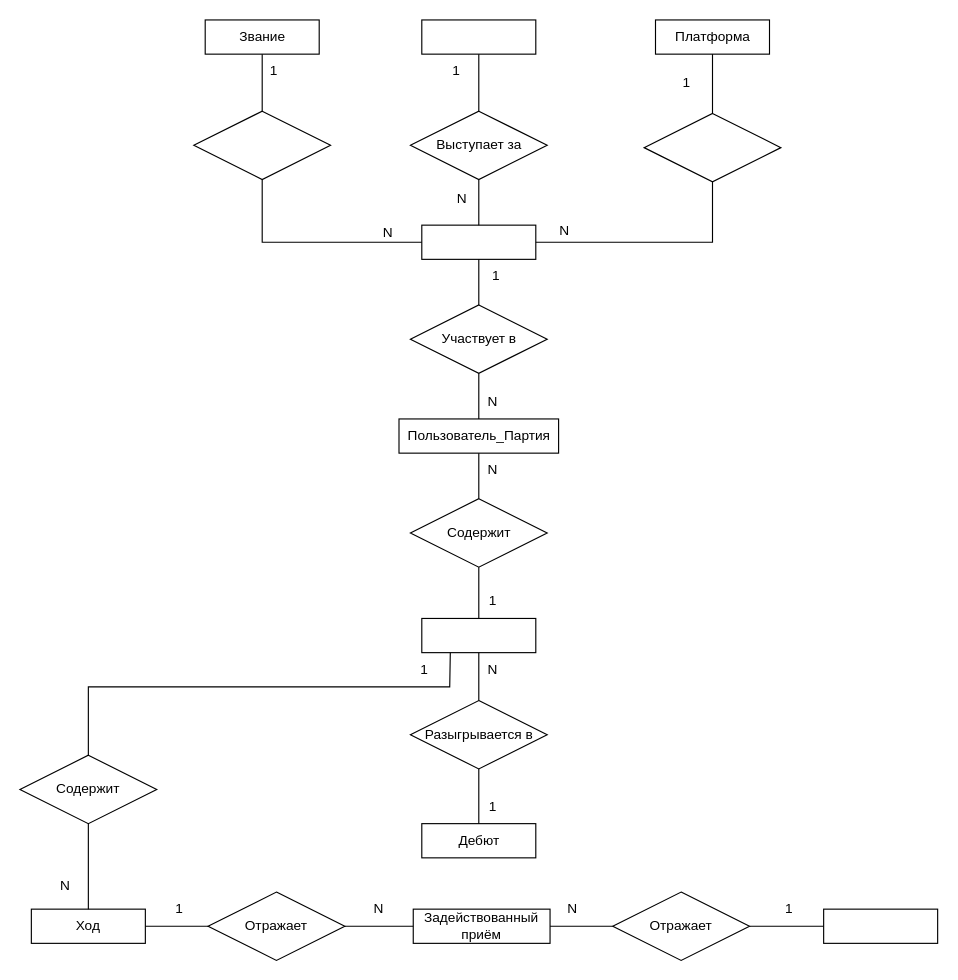
This 958x980 diagram has some shape labels left out. Here are the shapes that lost their labels. From the top down, the box of each, then its label:
(421, 19, 536, 54): Страна
(193, 110, 331, 180): Имеет
(643, 112, 781, 182): Играет на
(421, 224, 536, 259): Пользователь
(421, 617, 536, 653): Партия
(823, 908, 938, 943): Приём
